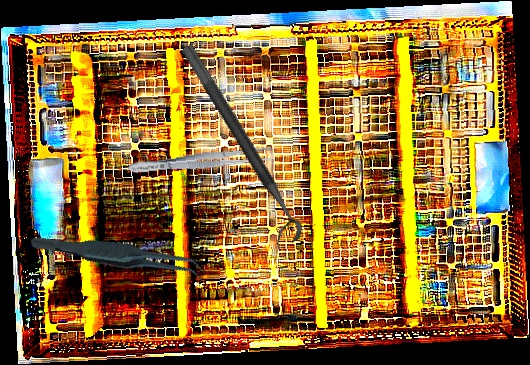Dressing Forceps: (127, 144, 273, 178)
Fixation Ring: (164, 43, 308, 251)
Tissue Forceps: (28, 200, 210, 312)
